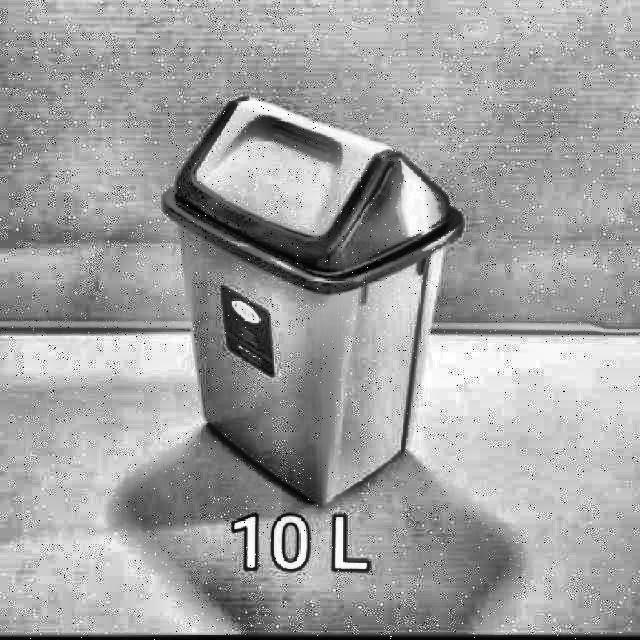Dustbin: (152, 84, 478, 514)
